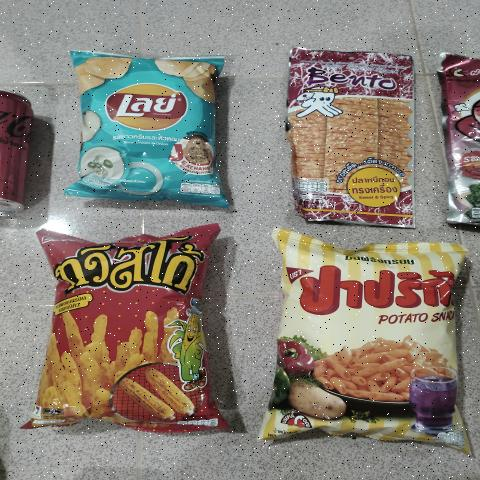bento_red: (288, 48, 406, 218)
lay_blue: (78, 55, 218, 202)
paprika: (282, 255, 458, 439)
twisco: (57, 237, 204, 424)
